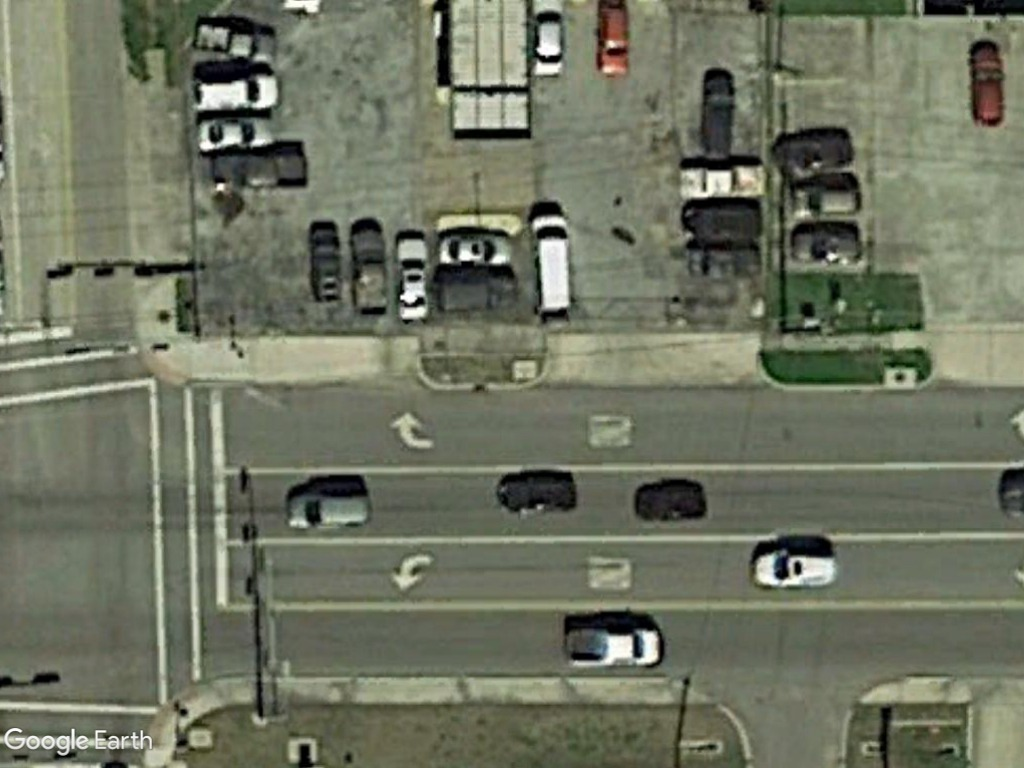car: (282, 483, 381, 536), (191, 66, 285, 117), (390, 231, 436, 328), (749, 545, 845, 591), (433, 228, 519, 272), (967, 40, 1008, 129), (191, 111, 276, 152), (788, 181, 869, 220)
other: (562, 620, 669, 669)
van: (530, 205, 579, 322)
